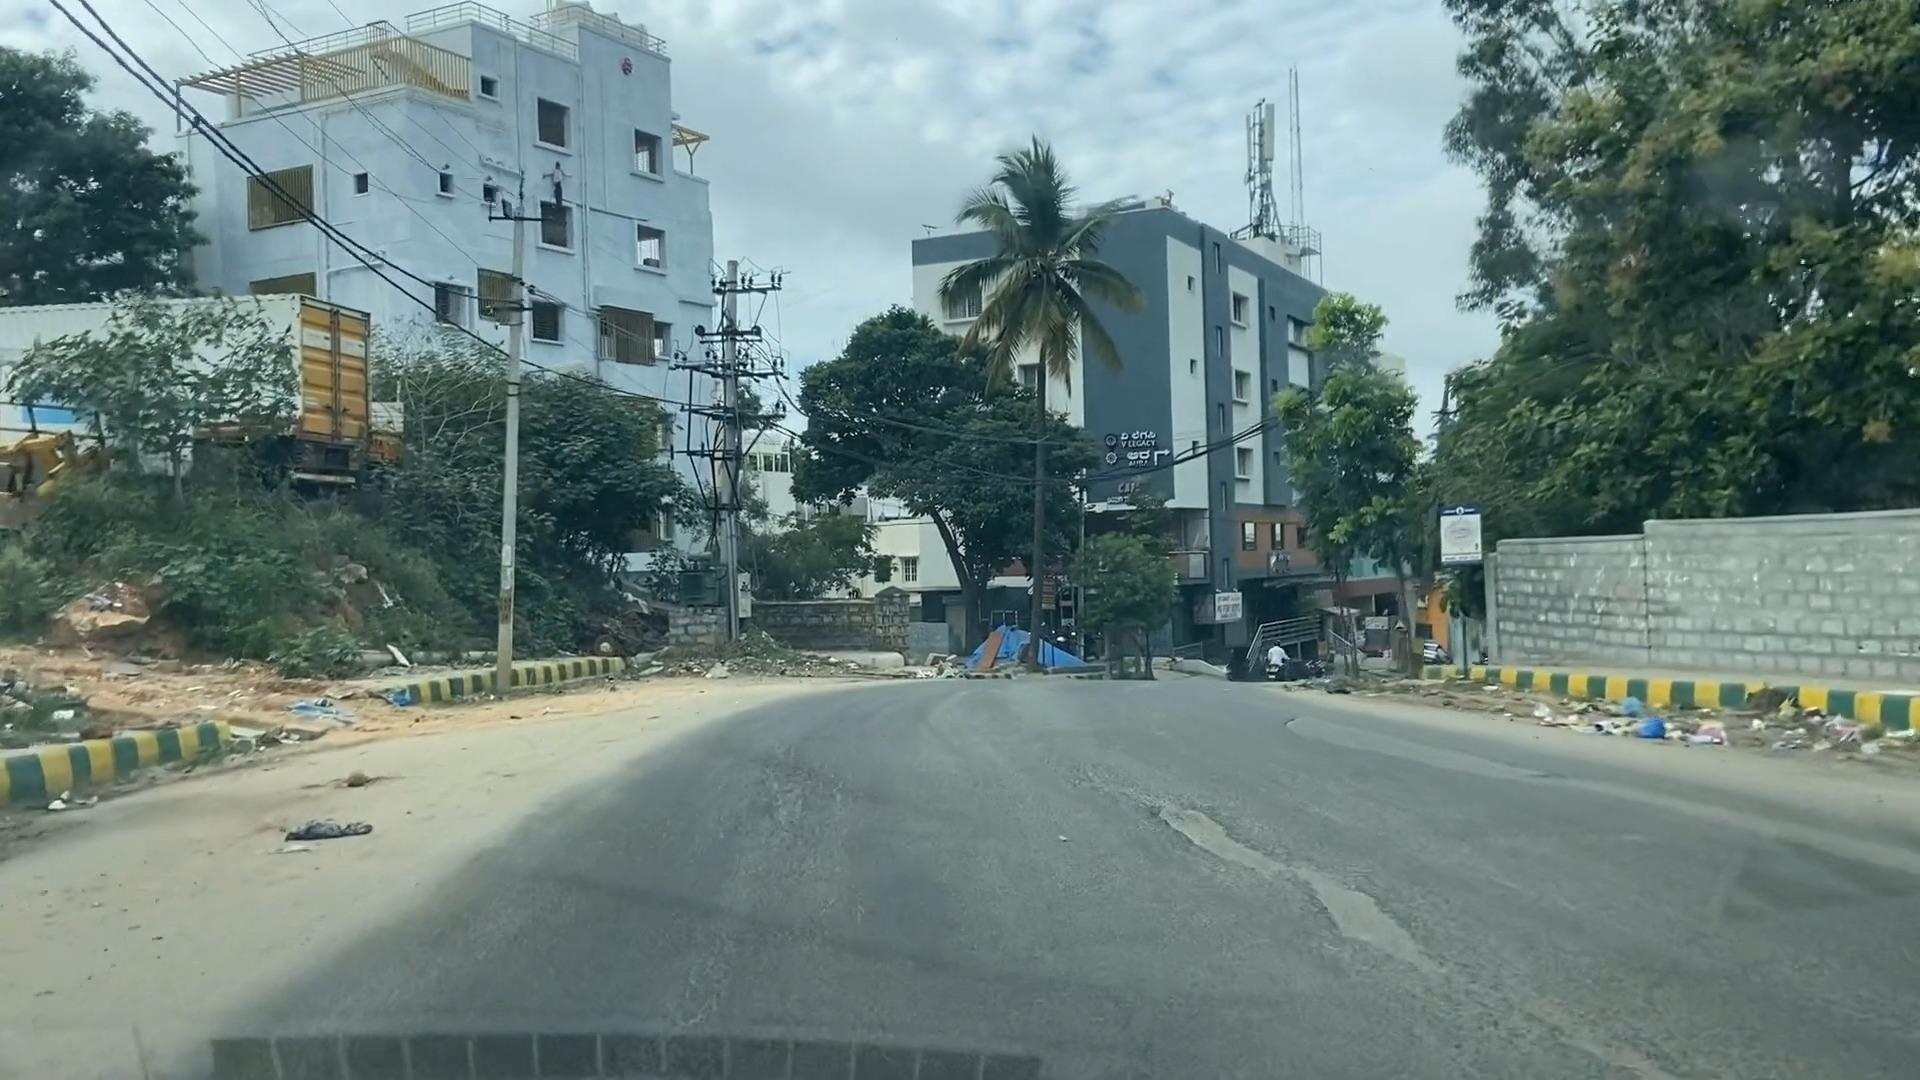RoadDamages: (1058, 746, 1575, 1068), (1268, 704, 1628, 843), (696, 714, 892, 880)
